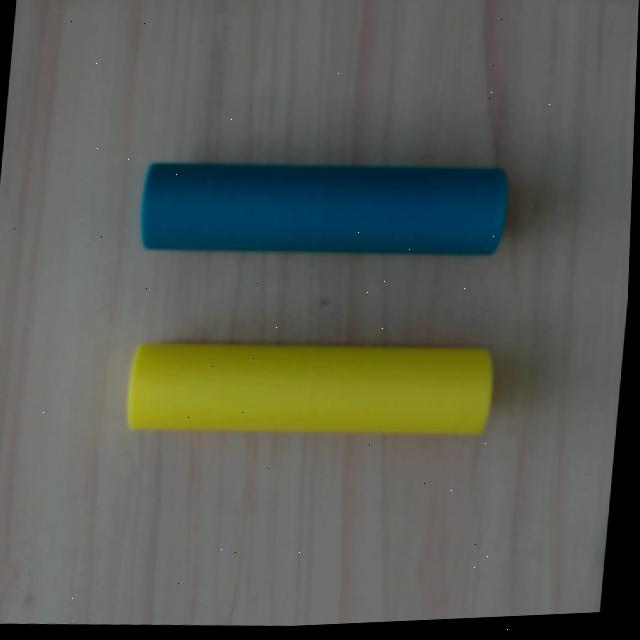Silinder-Hijau-10025: (142, 162, 507, 255)
Silinder-Kuning-10025: (127, 343, 494, 434)
